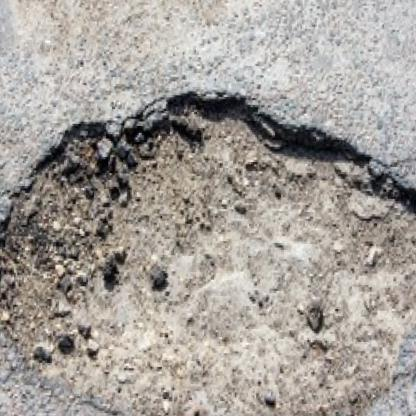pothole: (0, 79, 416, 416)
